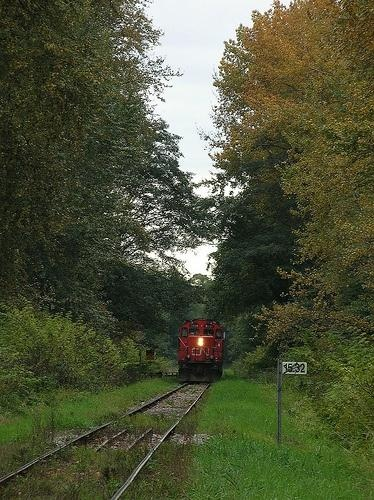train: (175, 318, 228, 385)
